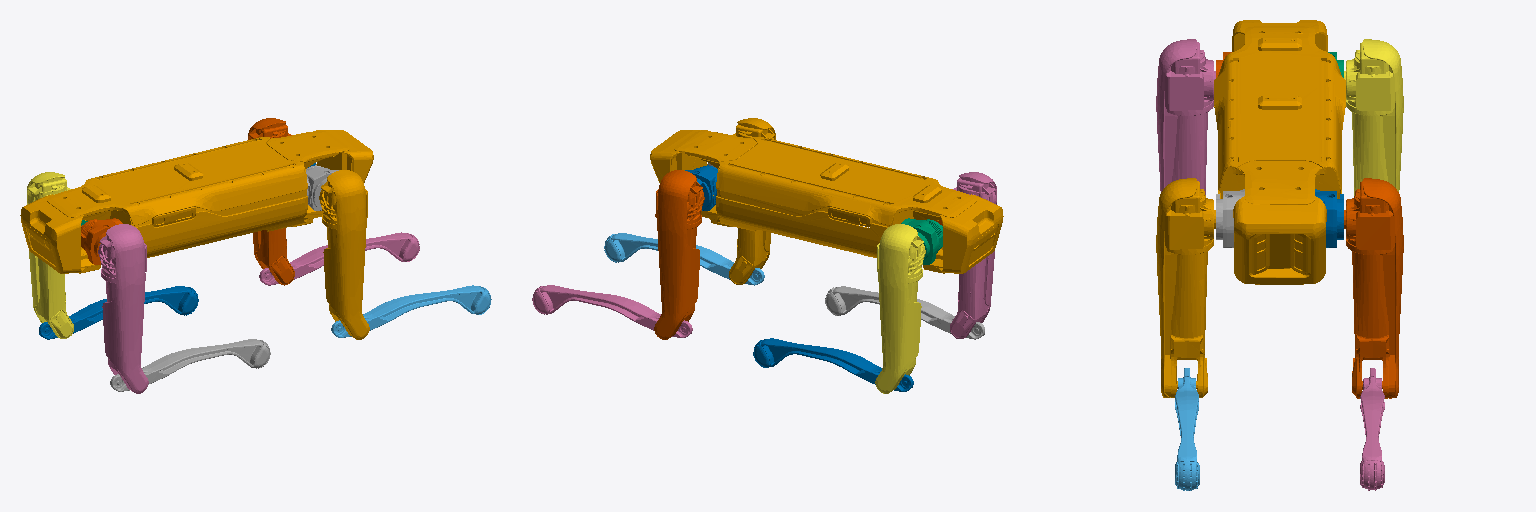
The robot description file, URDF, robot "spot":
<?xml version="1.0" ?>
<robot name="spot">
    <link name="body">
        <visual>
            <origin rpy="1.570796 0 0" xyz="0 0 0"/>
            <geometry>
                <mesh filename="package://spot_description/meshes/body.obj" />
            </geometry>
        </visual>
    </link>

    <link name="base_link"/>
    <joint name="base_link_joint" type="fixed">
        <origin xyz="0 0 0" rpy="0 0 0" />
        <parent link="body" />
        <child link="base_link" />
    </joint>

    <link name="front_rail"/>
    <joint name="front_rail_joint" type="fixed">
        <origin xyz="0.223 0 0.0805" rpy="0 0 0" />
        <parent link="body" />
        <child link="front_rail" />
    </joint>

    <link name="rear_rail"/>
    <joint name="rear_rail_joint" type="fixed">
        <origin xyz="-0.223 0 0.0805" rpy="0 0 0" />
        <parent link="body" />
        <child link="rear_rail" />
    </joint>

    <link name="front_left_hip">
        <visual>
            <origin rpy="1.570796 0 0" xyz="0 0 0"/>
            <geometry>
                <mesh filename="package://spot_description/meshes/front_left_hip.obj" />
            </geometry>
        </visual>
    </link>
    <joint name="front_left_hip_x" type="revolute">
        <origin xyz="0.29785 0.05500 0.00000" rpy="0 0 0" />
        <axis xyz="1 0 0" />
        <parent link="body" />
        <child link="front_left_hip" />
        <limit effort="1000" velocity="1000.00" lower="-0.78539816339744827899" upper="0.78539816339744827899" />
    </joint>
    <link name="front_left_upper_leg">
        <visual>
            <origin rpy="1.570796 0 0" xyz="0 0 0"/>
            <geometry>
                <mesh filename="package://spot_description/meshes/front_left_upper_leg.obj" />
            </geometry>
        </visual>
    </link>
    <joint name="front_left_hip_y" type="revolute">
        <origin xyz="0.0 0.110945 0.0" rpy="0 0 0" />
        <axis xyz="0 1 0" />
        <parent link="front_left_hip" />
        <child link="front_left_upper_leg" />
        <limit effort="1000" velocity="1000.00" lower="-0.89884456477707963539" upper="2.2951079663725435509" />
    </joint>
    <link name="front_left_lower_leg">
        <visual>
            <origin rpy="1.570796 0 0" xyz="0 0 0"/>
            <geometry>
                <mesh filename="package://spot_description/meshes/front_left_lower_leg.obj" />
            </geometry>
        </visual>
    </link>
    <joint name="front_left_knee" type="revolute">
        <origin xyz="0.025 0.000 -0.3205" rpy="0 0 0" />
        <axis xyz="0 1 0" />
        <parent link="front_left_upper_leg" />
        <child link="front_left_lower_leg" />
        <limit effort="1000" velocity="1000.00" lower="-2.7929" upper="-0.254801" />
    </joint>
    <link name="front_right_hip">
        <visual>
            <origin rpy="1.570796 0 0" xyz="0 0 0"/>
            <geometry>
                <mesh filename="package://spot_description/meshes/front_right_hip.obj" />
            </geometry>
        </visual>
    </link>
    <joint name="front_right_hip_x" type="revolute">
        <origin xyz="0.29785 -0.05500 0.00000" rpy="0 0 0" />
        <axis xyz="1 0 0" />
        <parent link="body" />
        <child link="front_right_hip" />
        <limit effort="1000" velocity="1000.00" lower="-0.78539816339744827899" upper="0.78539816339744827899" />
    </joint>
    <link name="front_right_upper_leg">
        <visual>
            <origin rpy="1.570796 0 0" xyz="0 0 0"/>
            <geometry>
                <mesh filename="package://spot_description/meshes/front_right_upper_leg.obj" />
            </geometry>
        </visual>
    </link>
    <joint name="front_right_hip_y" type="revolute">
        <origin xyz="0.0 -0.110945 0.0" rpy="0 0 0" />
        <axis xyz="0 1 0" />
        <parent link="front_right_hip" />
        <child link="front_right_upper_leg" />
        <limit effort="1000" velocity="1000.00" lower="-0.89884456477707963539" upper="2.2951079663725435509" />
    </joint>
    <link name="front_right_lower_leg">
        <visual>
            <origin rpy="1.570796 0 0" xyz="0 0 0"/>
            <geometry>
                <mesh filename="package://spot_description/meshes/front_right_lower_leg.obj" />
            </geometry>
        </visual>
    </link>
    <joint name="front_right_knee" type="revolute">
        <origin xyz="0.025 0.000 -0.3205" rpy="0 0 0" />
        <axis xyz="0 1 0" />
        <parent link="front_right_upper_leg" />
        <child link="front_right_lower_leg" />
        <limit effort="1000" velocity="1000.00" lower="-2.7929" upper="-0.247563" />
    </joint>
    <link name="rear_left_hip">
        <visual>
            <origin rpy="1.570796 0 0" xyz="0 0 0"/>
            <geometry>
                <mesh filename="package://spot_description/meshes/rear_left_hip.obj" />
            </geometry>
        </visual>
    </link>
    <joint name="rear_left_hip_x" type="revolute">
        <origin xyz="-0.29785 0.05500 0.00000" rpy="0 0 0" />
        <axis xyz="1 0 0" />
        <parent link="body" />
        <child link="rear_left_hip" />
        <limit effort="1000" velocity="1000.00" lower="-0.78539816339744827899" upper="0.78539816339744827899" />
    </joint>
    <link name="rear_left_upper_leg">
        <visual>
            <origin rpy="1.570796 0 0" xyz="0 0 0"/>
            <geometry>
                <mesh filename="package://spot_description/meshes/rear_left_upper_leg.obj" />
            </geometry>
        </visual>
    </link>
    <joint name="rear_left_hip_y" type="revolute">
        <origin xyz="0.0 0.110945 0.0" rpy="0 0 0" />
        <axis xyz="0 1 0" />
        <parent link="rear_left_hip" />
        <child link="rear_left_upper_leg" />
        <limit effort="1000" velocity="1000.00" lower="-0.89884456477707963539" upper="2.2951079663725435509" />
    </joint>
    <link name="rear_left_lower_leg">
        <visual>
            <origin rpy="1.570796 0 0" xyz="0 0 0"/>
            <geometry>
                <mesh filename="package://spot_description/meshes/rear_left_lower_leg.obj" />
            </geometry>
        </visual>
    </link>
    <joint name="rear_left_knee" type="revolute">
        <origin xyz="0.025 0.000 -0.3205" rpy="0 0 0" />
        <axis xyz="0 1 0" />
        <parent link="rear_left_upper_leg" />
        <child link="rear_left_lower_leg" />
        <limit effort="1000" velocity="1000.00" lower="-2.7929" upper="-0.267153" />
    </joint>
    <link name="rear_right_hip">
        <visual>
            <origin rpy="1.570796 0 0" xyz="0 0 0"/>
            <geometry>
                <mesh filename="package://spot_description/meshes/rear_right_hip.obj" />
            </geometry>
        </visual>
    </link>
    <joint name="rear_right_hip_x" type="revolute">
        <origin xyz="-0.29785 -0.05500 0.00000" rpy="0 0 0" />
        <axis xyz="1 0 0" />
        <parent link="body" />
        <child link="rear_right_hip" />
        <limit effort="1000" velocity="1000.00" lower="-0.78539816339744827899" upper="0.78539816339744827899" />
    </joint>
    <link name="rear_right_upper_leg">
        <visual>
            <origin rpy="1.570796 0 0" xyz="0 0 0"/>
            <geometry>
                <mesh filename="package://spot_description/meshes/rear_right_upper_leg.obj" />
            </geometry>
        </visual>
    </link>
    <joint name="rear_right_hip_y" type="revolute">
        <origin xyz="0.0 -0.110945 0.0" rpy="0 0 0" />
        <axis xyz="0 1 0" />
        <parent link="rear_right_hip" />
        <child link="rear_right_upper_leg" />
        <limit effort="1000" velocity="1000.00" lower="-0.89884456477707963539" upper="2.2951079663725435509" />
    </joint>
    <link name="rear_right_lower_leg">
        <visual>
            <origin rpy="1.570796 0 0" xyz="0 0 0"/>
            <geometry>
                <mesh filename="package://spot_description/meshes/rear_right_lower_leg.obj" />
            </geometry>
        </visual>
    </link>
    <joint name="rear_right_knee" type="revolute">
        <origin xyz="0.025 0.000 -0.3205" rpy="0 0 0" />
        <axis xyz="0 1 0" />
        <parent link="rear_right_upper_leg" />
        <child link="rear_right_lower_leg" />
        <limit effort="1000" velocity="1000.00" lower="-2.7929" upper="-0.257725" />
    </joint>
</robot>

--- What the picture shows (computed from the rendered views, not written in the file) ---
The picture shows the robot from 3 angles, left to right: view 1: azimuth 30°, elevation 25°; view 2: azimuth 150°, elevation 25°; view 3: azimuth 270°, elevation 25°; orthographic projection.
Model spot with 16 links and 15 joints (12 revolute, 3 fixed), rooted at body, posed joints at zero except 4 at the middle of their limits (front_left_knee = -1.52, front_right_knee = -1.52, rear_left_knee = -1.53, rear_right_knee = -1.53).
Links seen in each view (by area): view 1: body, front_right_upper_leg, rear_right_upper_leg, rear_left_upper_leg, rear_right_lower_leg, front_right_lower_leg, front_left_upper_leg, front_left_lower_leg, rear_left_lower_leg, rear_right_hip, front_right_hip; view 2: body, front_left_upper_leg, rear_left_upper_leg, rear_right_upper_leg, rear_left_lower_leg, front_left_lower_leg, front_right_upper_leg, front_right_lower_leg, rear_right_lower_leg, rear_left_hip, front_left_hip; view 3: body, front_right_upper_leg, front_left_upper_leg, rear_left_upper_leg, rear_right_upper_leg, front_left_lower_leg, front_right_lower_leg, front_right_hip, front_left_hip.
Link boxes in pixels (x1,y1,x2,y2): body: (20,130,373,273); front_right_upper_leg: (319,170,369,339); rear_right_upper_leg: (98,224,148,393); rear_left_upper_leg: (27,172,73,338); rear_right_lower_leg: (110,339,270,391); front_right_lower_leg: (331,285,491,337); front_left_upper_leg: (248,118,294,285); front_left_lower_leg: (259,232,419,285); rear_left_lower_leg: (39,286,198,339); rear_right_hip: (81,218,122,264); front_right_hip: (306,165,338,210); body: (650,130,1003,273); front_left_upper_leg: (654,170,704,339); rear_left_upper_leg: (875,224,925,393); rear_right_upper_leg: (950,172,996,338); rear_left_lower_leg: (753,338,913,391); front_left_lower_leg: (532,285,692,337); front_right_upper_leg: (729,118,775,284); front_right_lower_leg: (604,233,764,285); rear_right_lower_leg: (825,286,984,339); rear_left_hip: (901,218,942,264); front_left_hip: (685,165,717,210); body: (1214,20,1345,284); front_right_upper_leg: (1156,178,1215,397); front_left_upper_leg: (1344,178,1403,398); rear_left_upper_leg: (1344,39,1403,195); rear_right_upper_leg: (1156,39,1215,194); front_left_lower_leg: (1360,368,1384,490); front_right_lower_leg: (1175,368,1199,490); front_right_hip: (1216,189,1244,247); front_left_hip: (1315,189,1343,247).
Size in the robot's own frame: 1.12 by 0.4488 by 0.466 metres.
Meshes: 13 distinct files referenced, 13 mesh visuals loaded (13 OBJ).